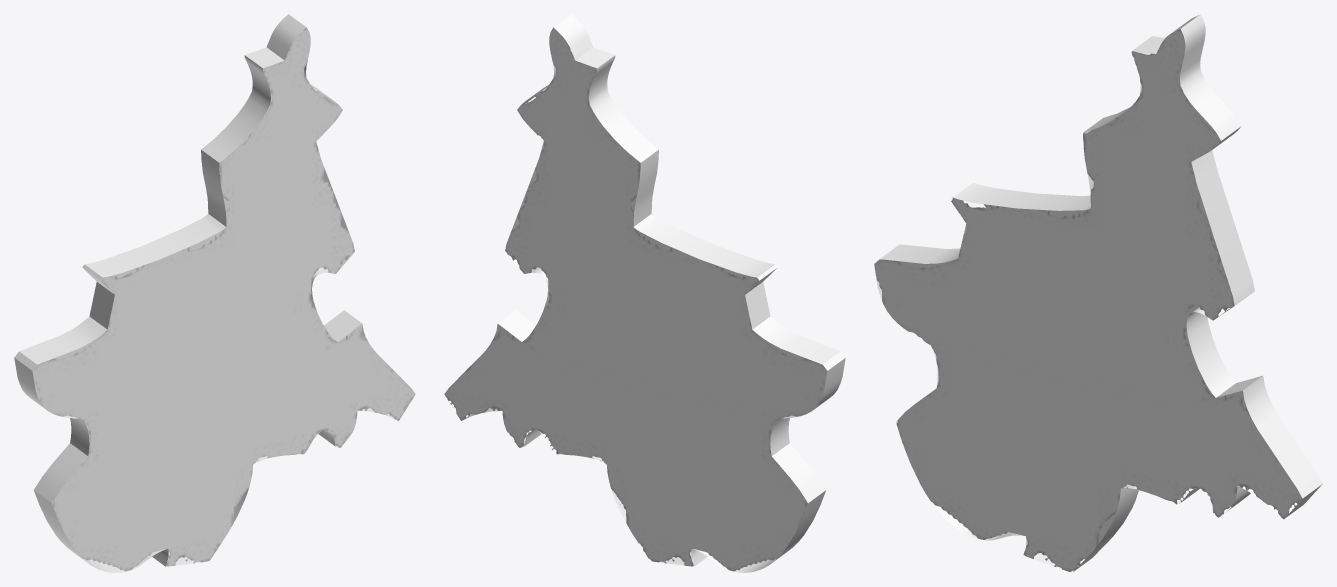
Rendered from Piemonte.obj.
3 views of the same model, side by side, from view 1: azimuth 30°, elevation 25°; view 2: azimuth 150°, elevation 25°; view 3: azimuth 330°, elevation 25° (orthographic). The views are drawn at different scales.
Size of the model in its own units: 158 by 201 by 13.
Materials: 3 (3 with a texture image).
